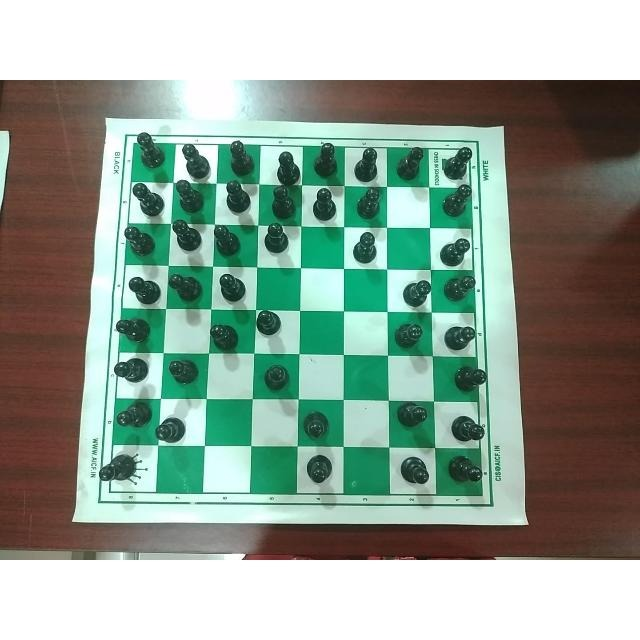black-pawn: (97, 451, 145, 485), (129, 178, 167, 217), (438, 183, 474, 221), (133, 130, 167, 170), (447, 411, 489, 443), (450, 360, 489, 394), (399, 451, 433, 490), (216, 269, 252, 305), (121, 222, 158, 257), (114, 400, 151, 435), (441, 143, 477, 178), (172, 177, 207, 213), (155, 410, 191, 445), (220, 179, 254, 215), (170, 218, 204, 254), (395, 401, 431, 435), (224, 139, 256, 177), (209, 316, 243, 351), (446, 452, 483, 484), (401, 275, 432, 313), (212, 224, 246, 258), (260, 221, 293, 256), (180, 142, 212, 178), (396, 145, 428, 181), (437, 236, 473, 268), (125, 272, 161, 304), (168, 271, 204, 303), (349, 229, 381, 264), (272, 149, 303, 185), (352, 145, 381, 183), (392, 319, 426, 351), (313, 139, 340, 179), (355, 187, 383, 225), (113, 357, 151, 385), (308, 185, 337, 221), (442, 320, 478, 349), (114, 314, 151, 342), (443, 272, 475, 304), (305, 452, 337, 484), (167, 355, 200, 386), (269, 184, 297, 220), (301, 408, 330, 440), (254, 310, 282, 338), (263, 364, 291, 392)
